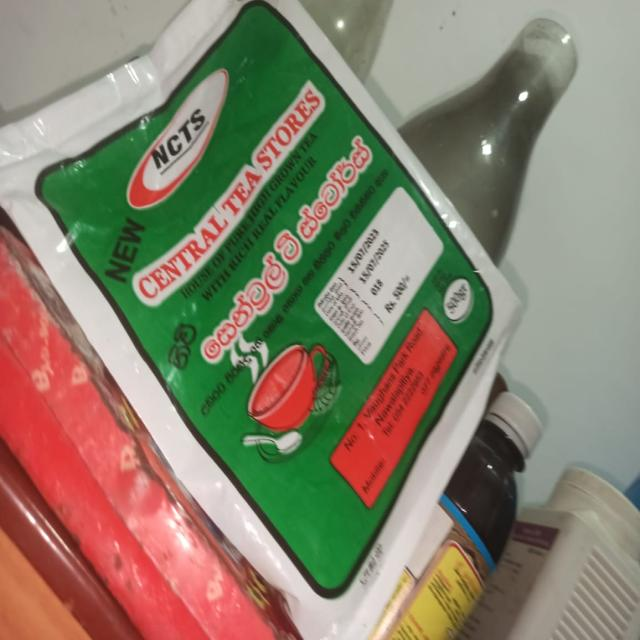Central Tea: (0, 0, 569, 609)
